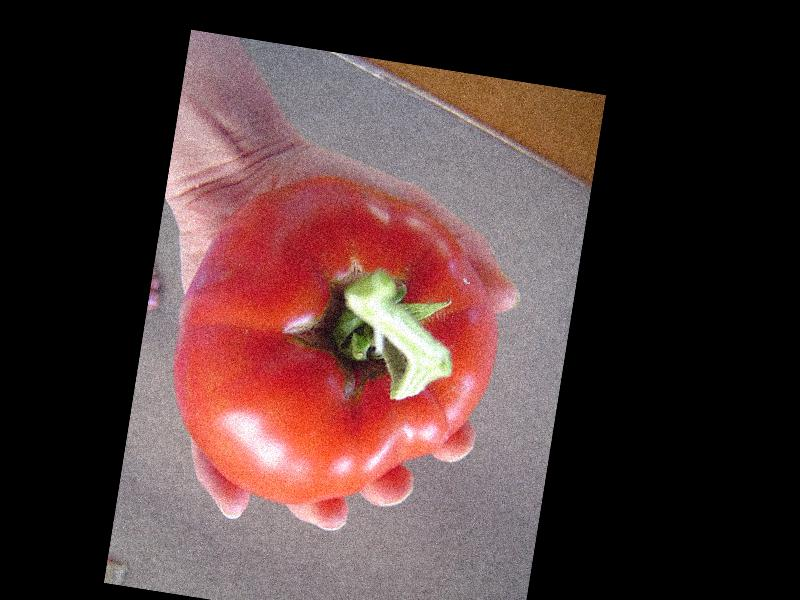Tomato: (154, 158, 519, 531)
